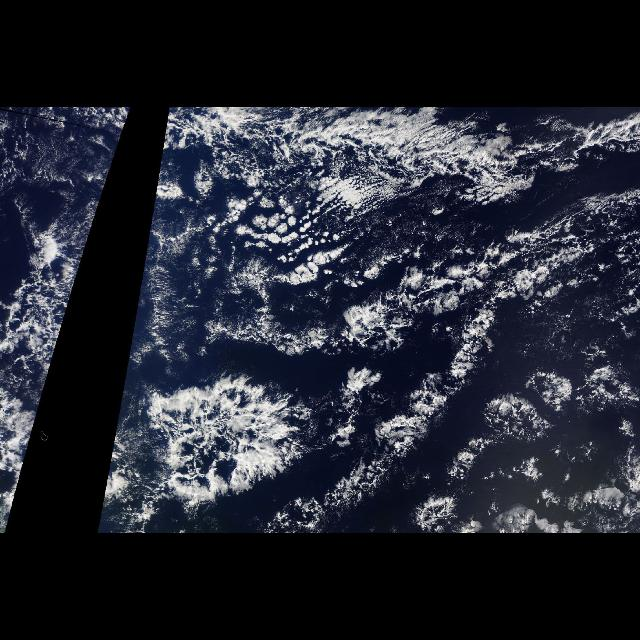Fish: (105, 220, 629, 526), (158, 108, 592, 202)
